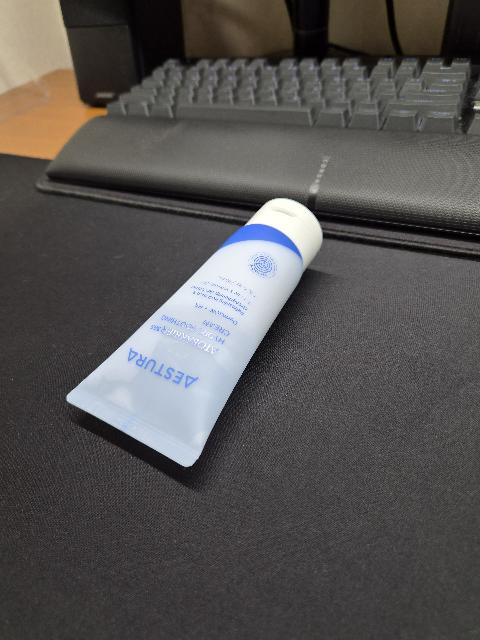handcream: (66, 198, 323, 467)
